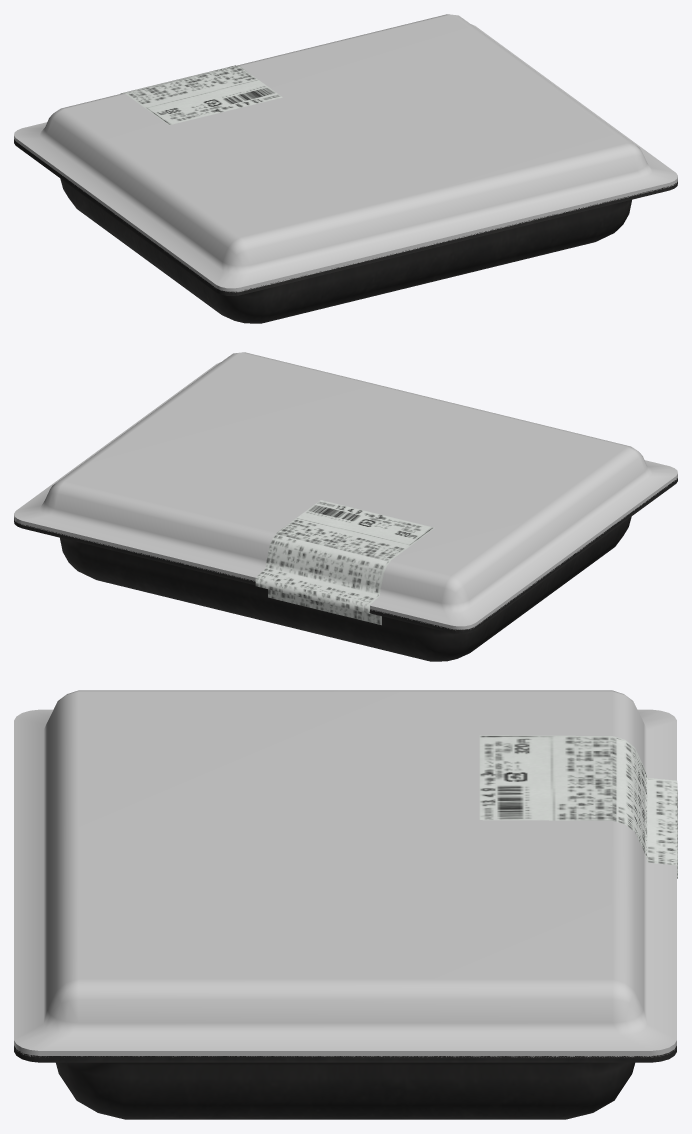
File: SM_Bento_01.fbx
3 views of the same model, one above another, from view 1: azimuth 30°, elevation 25°; view 2: azimuth 150°, elevation 25°; view 3: azimuth 270°, elevation 25° (orthographic). The views are drawn at different scales.
Visible parts, largest first — view 1: SM_Bento_01_LOD0; view 2: SM_Bento_01_LOD0; view 3: SM_Bento_01_LOD0.
Boxes of the visible parts, x1,y1,x2,y2 form: SM_Bento_01_LOD0: (14, 14, 677, 323); SM_Bento_01_LOD0: (14, 352, 677, 661); SM_Bento_01_LOD0: (14, 690, 677, 1119).
Bounding box in the file's own units: 21.98 × 18.06 × 4.66.
